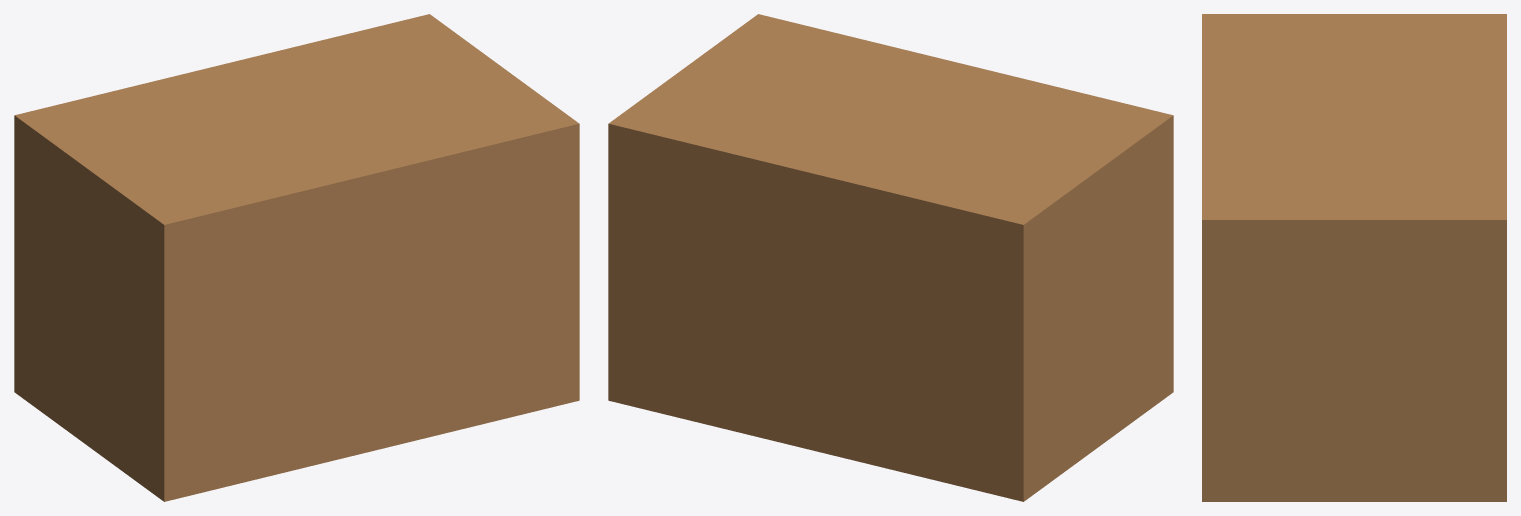
File: coffre.glb
3 renders of one model, left to right at view 1: azimuth 30°, elevation 25°; view 2: azimuth 150°, elevation 25°; view 3: azimuth 270°, elevation 25°, orthographic.
Parts seen in each view (by area): view 1: Caisse, Couvercle; view 2: Caisse, Couvercle; view 3: Caisse, Couvercle.
Part boxes in pixels (x1,y1,x2,y2): Caisse: (14, 148, 579, 501); Couvercle: (14, 14, 579, 257); Caisse: (608, 148, 1173, 501); Couvercle: (608, 14, 1173, 257); Caisse: (1202, 253, 1506, 501); Couvercle: (1202, 14, 1506, 253).
Size of the model in its own units: 0.8 by 0.51 by 0.5.
